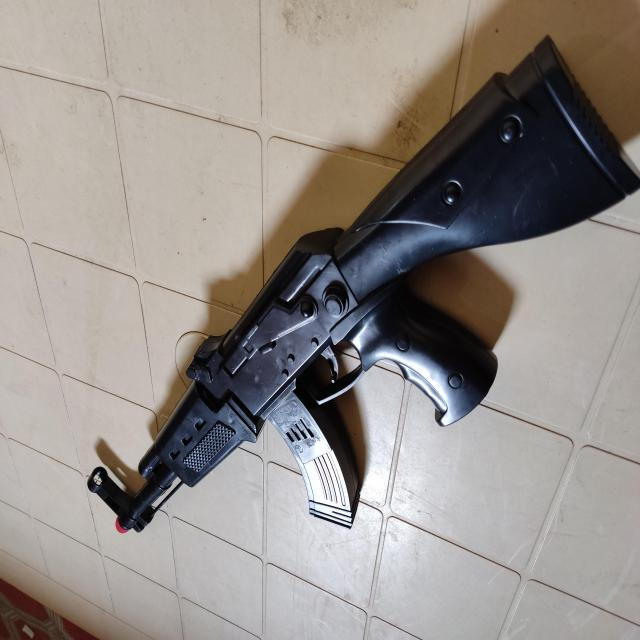rifle: (87, 35, 637, 557)
